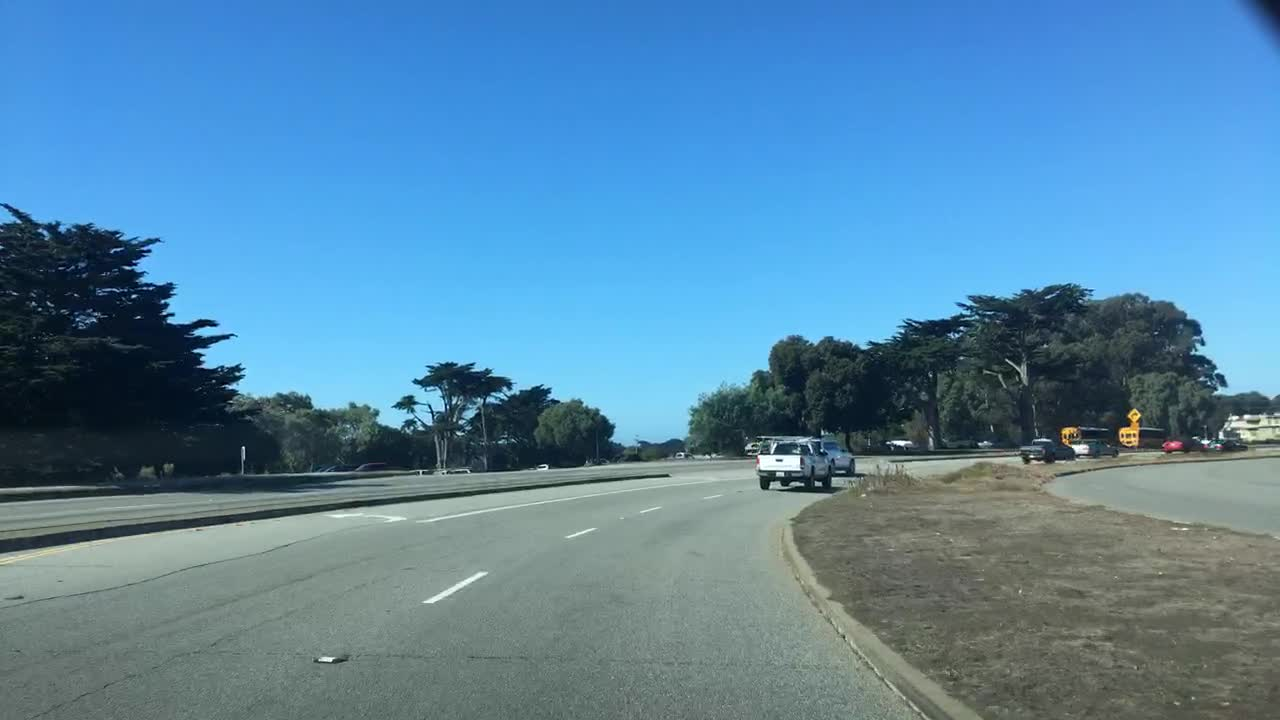bus: (1061, 424, 1118, 453), (1118, 426, 1166, 449)
car: (810, 437, 857, 479), (1162, 436, 1209, 456), (1205, 437, 1247, 452), (942, 434, 974, 449), (352, 460, 390, 471), (317, 462, 355, 473), (886, 439, 920, 449), (975, 436, 995, 449), (674, 449, 694, 461), (1197, 435, 1212, 446), (535, 461, 553, 470), (595, 456, 611, 466)
traffic sign: (1068, 438, 1120, 459), (1126, 409, 1143, 431), (240, 445, 245, 458)
truck: (753, 438, 834, 490), (1018, 436, 1074, 463)
